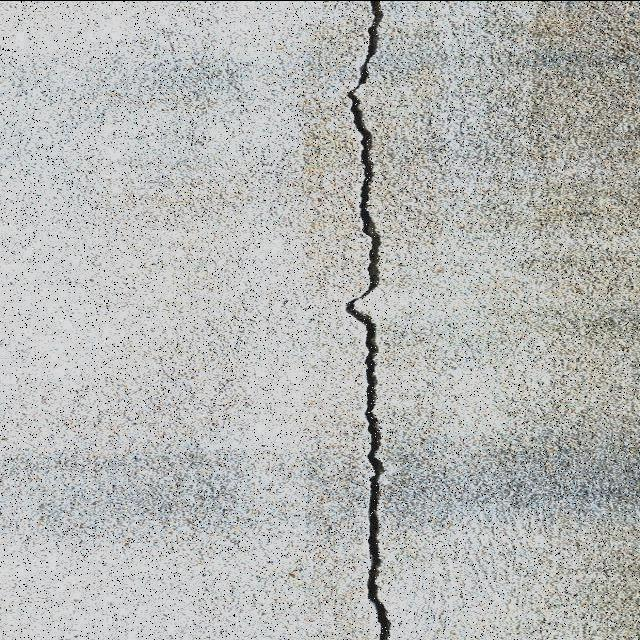crack: (344, 0, 391, 639), (225, 463, 392, 638), (301, 6, 397, 132), (333, 249, 416, 344), (294, 160, 362, 240)
